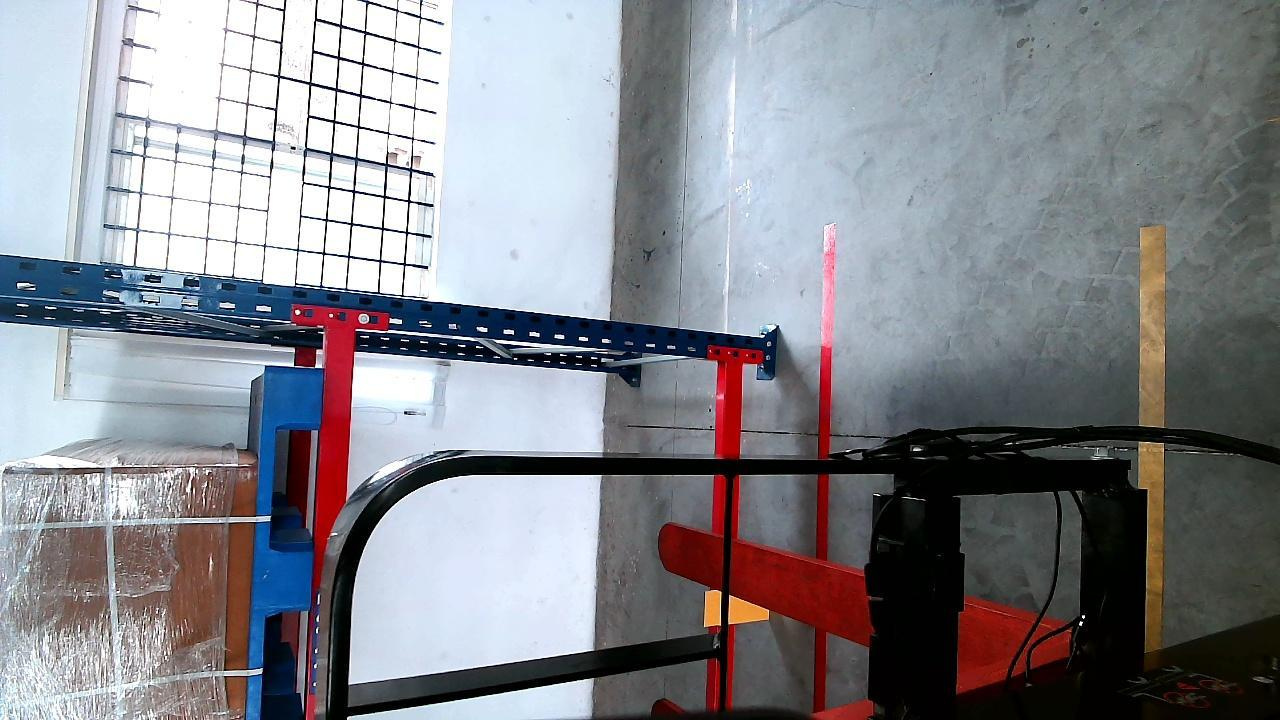red_line: (817, 223, 837, 470)
yellow_line: (1140, 209, 1166, 666)
